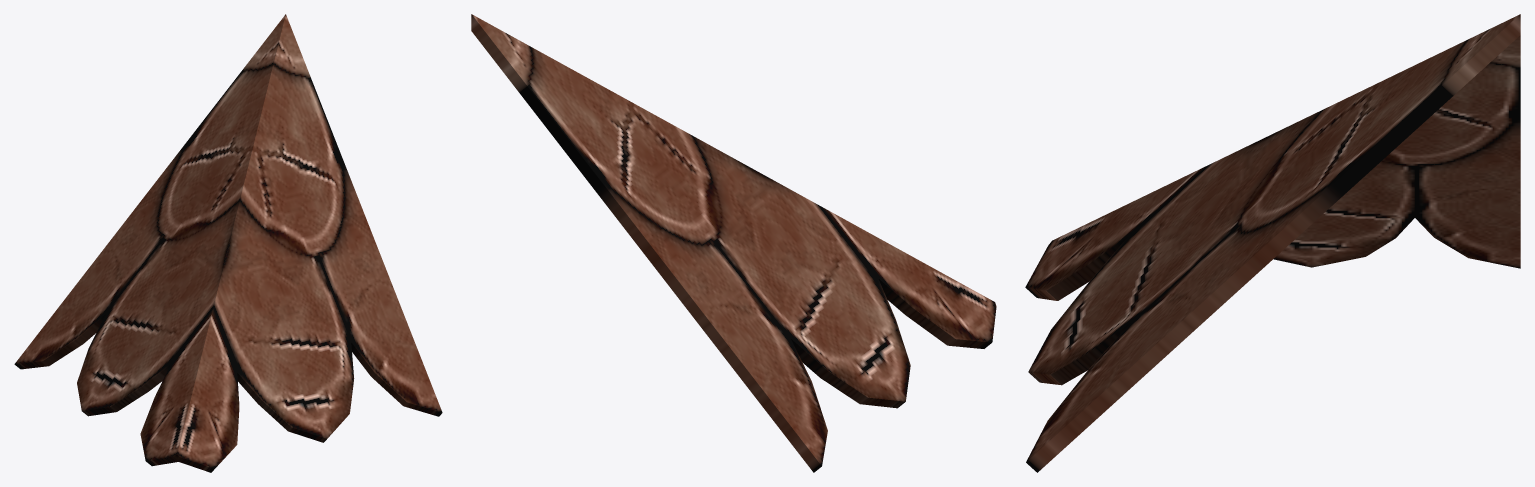
File: GenHouseRoofTrimConvex.fbx
The picture shows the model from 3 angles, left to right: view 1: azimuth 30°, elevation 25°; view 2: azimuth 150°, elevation 25°; view 3: azimuth 270°, elevation 25°; orthographic projection. The views are drawn at different scales.
Visible parts, largest first — view 1: GenHouse_Mod_Rooftrim1; view 2: GenHouse_Mod_Rooftrim1; view 3: GenHouse_Mod_Rooftrim1.
Boxes of the visible parts, box(x1,y1,x2,y2) form: GenHouse_Mod_Rooftrim1: box(14, 14, 442, 472); GenHouse_Mod_Rooftrim1: box(471, 14, 996, 472); GenHouse_Mod_Rooftrim1: box(1025, 14, 1520, 472).
Size of the model in its own units: 1.57 by 1.61 by 1.57.
